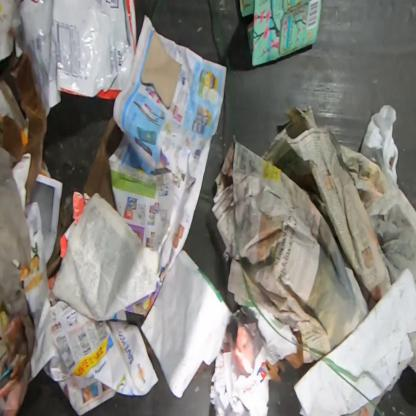cardboard: (0, 44, 47, 206), (240, 1, 322, 66), (142, 32, 182, 111)
soft_plastic: (18, 0, 136, 117)
